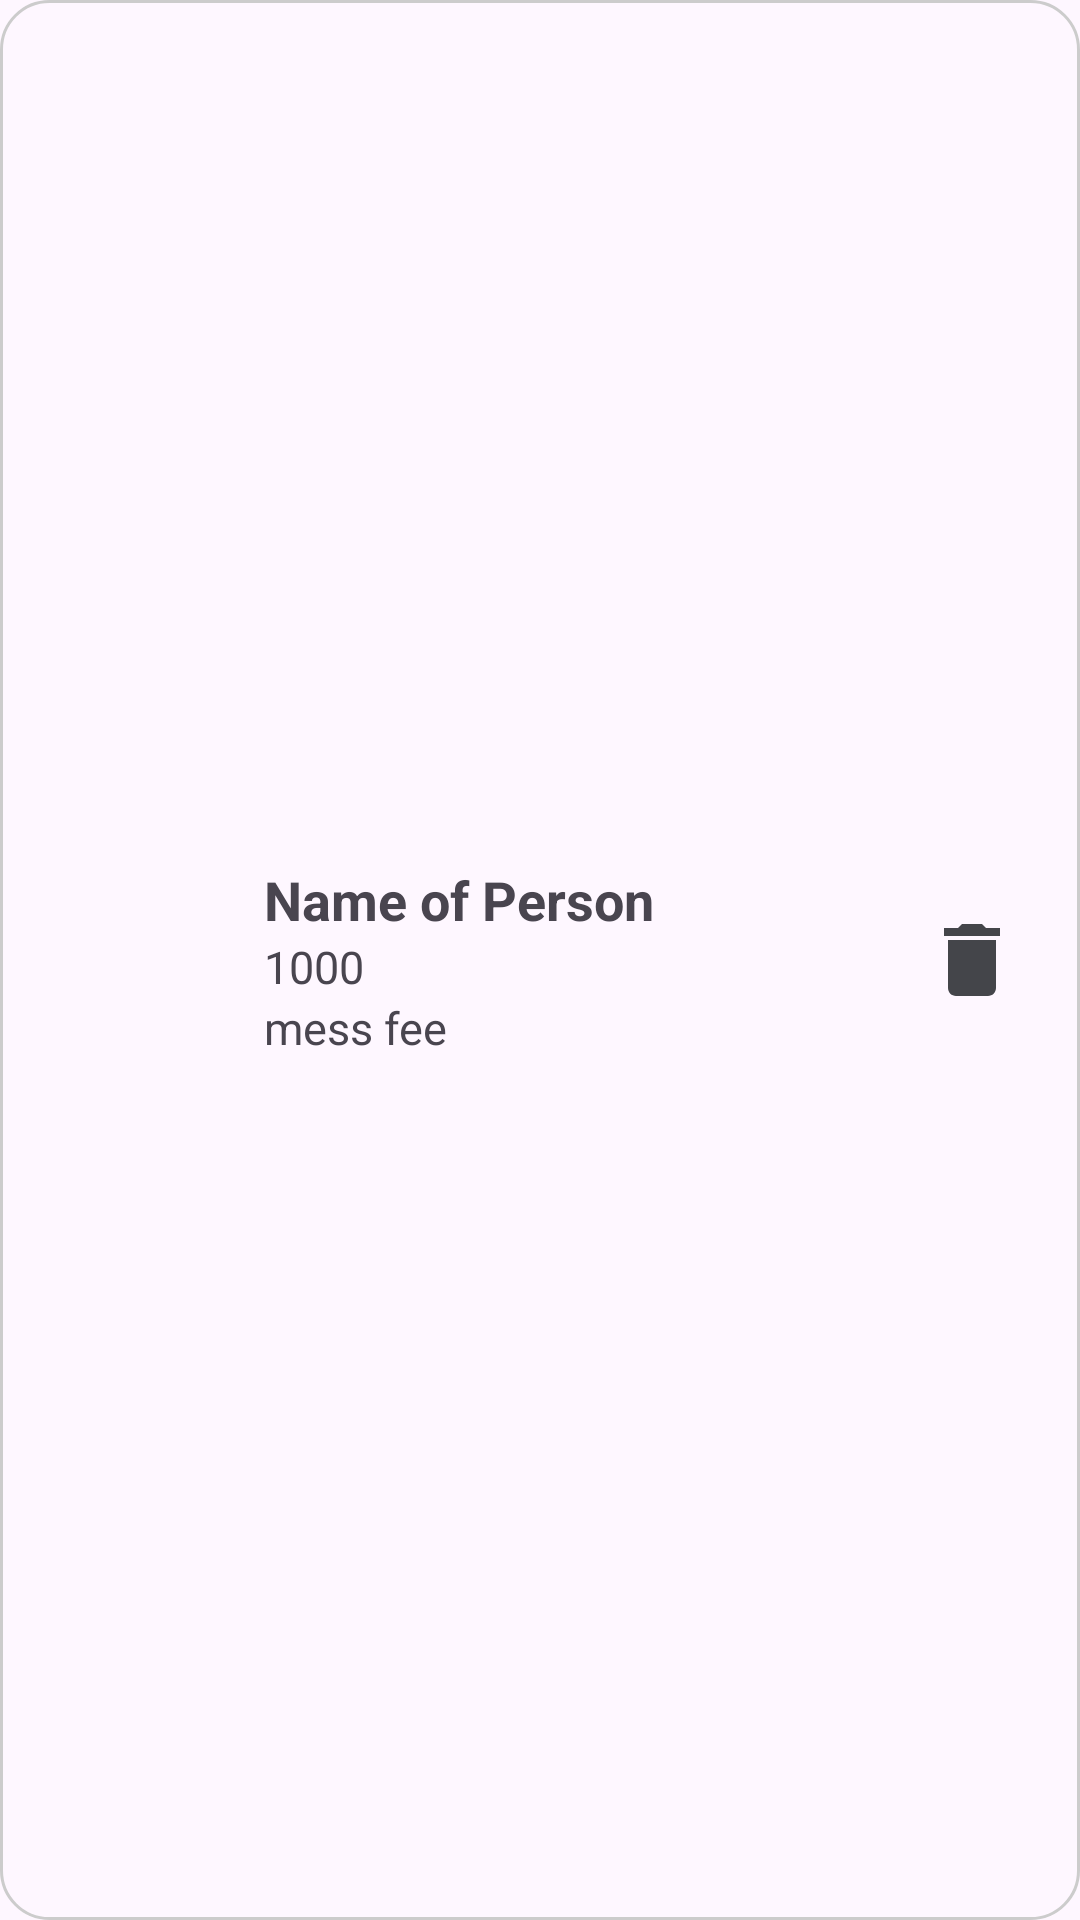

Icons on this 1080*1920 Android screen, each with the point to tap as (x,y):
delete: (972,960)
